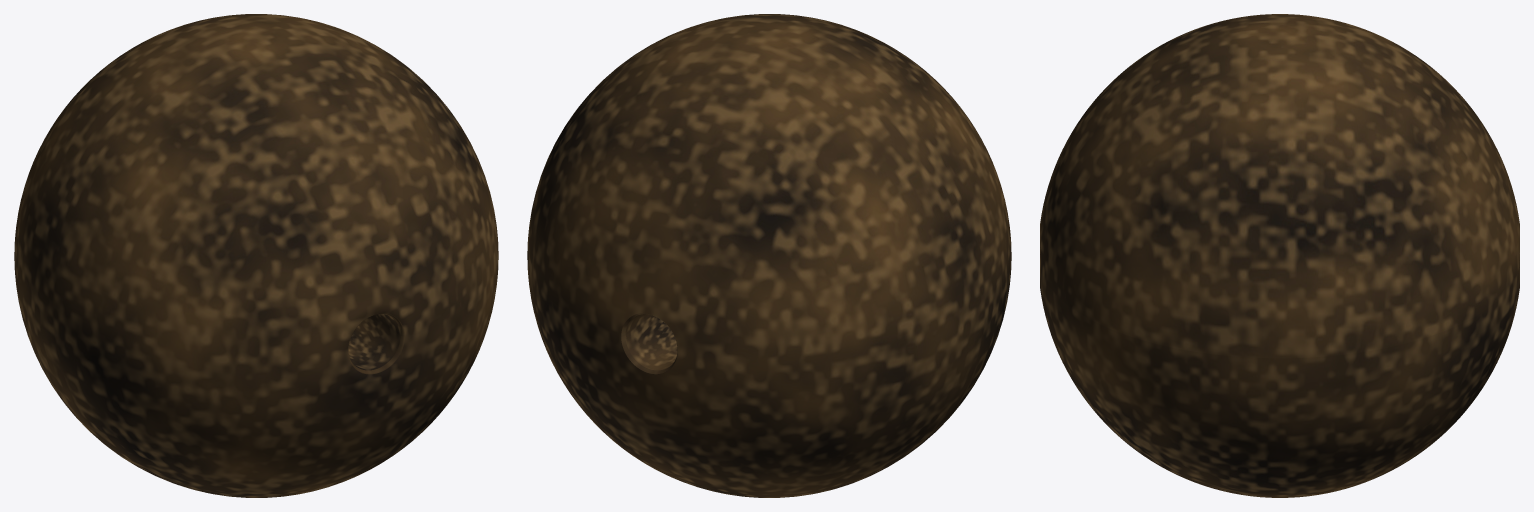
File: bronzite.glb
3 views of the same model, side by side, from view 1: azimuth 30°, elevation 25°; view 2: azimuth 150°, elevation 25°; view 3: azimuth 270°, elevation 25° (orthographic).
Parts seen in each view (by area): view 1: bronzite.001; view 2: bronzite.001; view 3: bronzite.001.
Part boxes in pixels (box(x1,y1,x2,y2)): bronzite.001: box(14, 14, 498, 497); bronzite.001: box(527, 14, 1011, 497); bronzite.001: box(1040, 14, 1519, 497).
Size of the model in its own units: 0.008 by 0.008 by 0.00793.
1 material, 1 textured.
